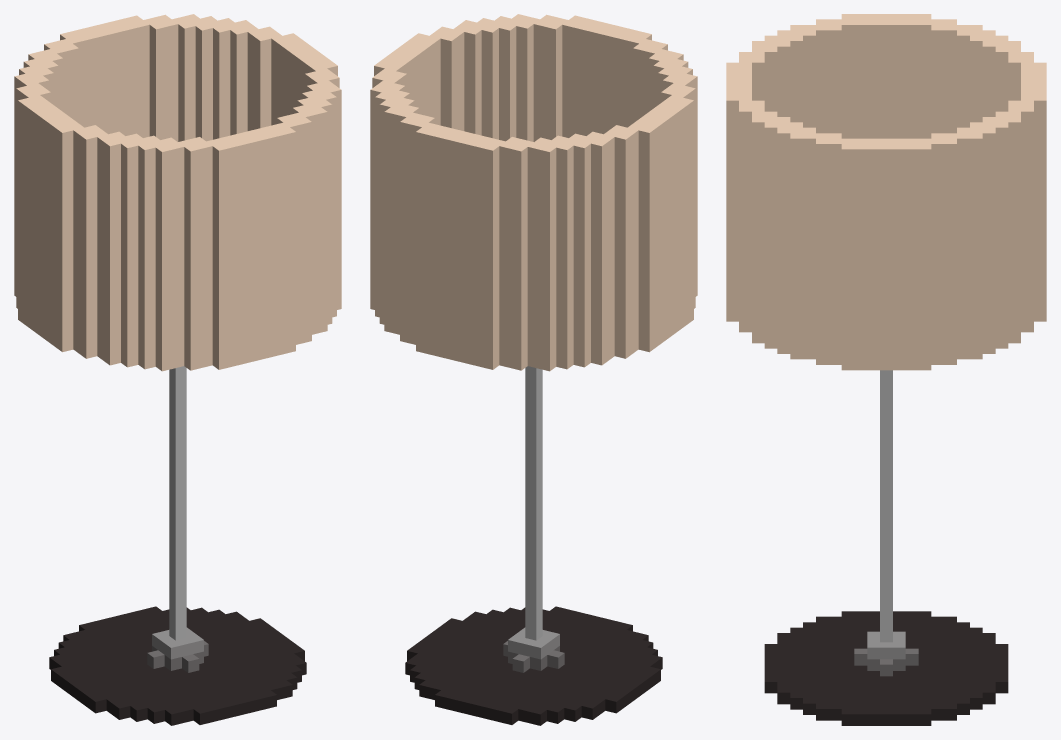
Rendered from mini_lamp_0_lev1_lev3.glb.
The picture shows the model from 3 angles, left to right: view 1: azimuth 30°, elevation 25°; view 2: azimuth 150°, elevation 25°; view 3: azimuth 270°, elevation 25°; orthographic projection.
Parts seen in each view (by area): view 1: mini_lamp_0_lev1_lev3; view 2: mini_lamp_0_lev1_lev3; view 3: mini_lamp_0_lev1_lev3.
Part boxes in pixels (<box>): mini_lamp_0_lev1_lev3: <box>14,14,341,725</box>; mini_lamp_0_lev1_lev3: <box>370,14,697,725</box>; mini_lamp_0_lev1_lev3: <box>726,14,1046,725</box>.
Size of the model in its own units: 0.8095 by 1.65 by 0.8095.
Materials: 1 (1 with a texture image).
